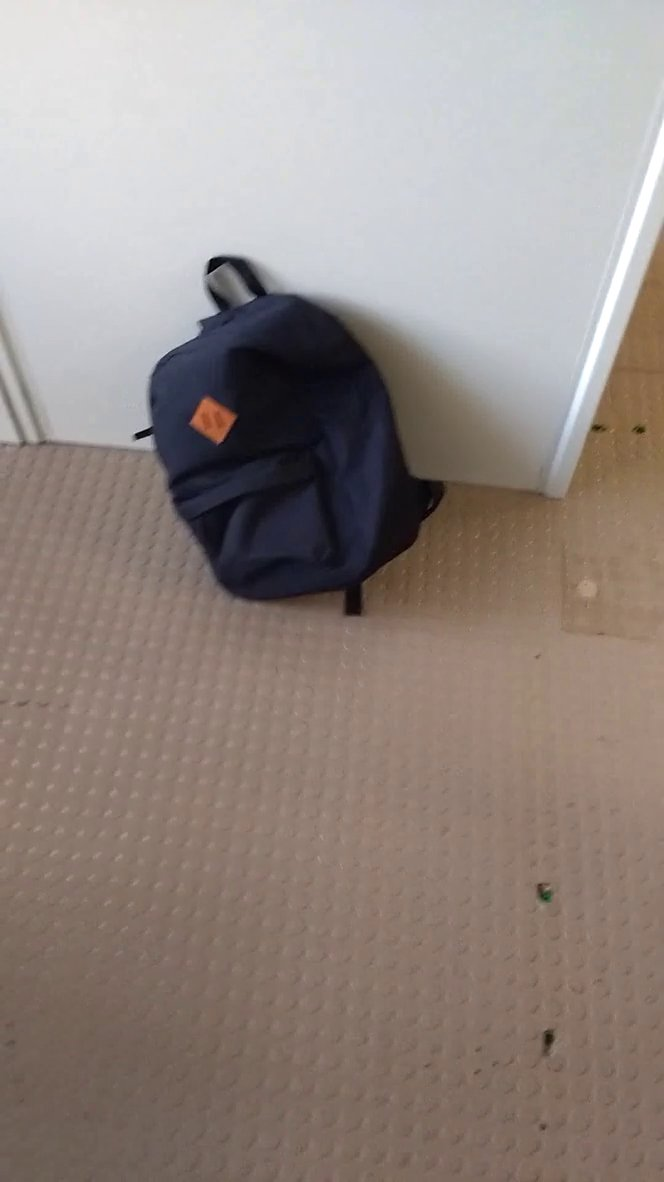bag: (115, 246, 468, 635)
